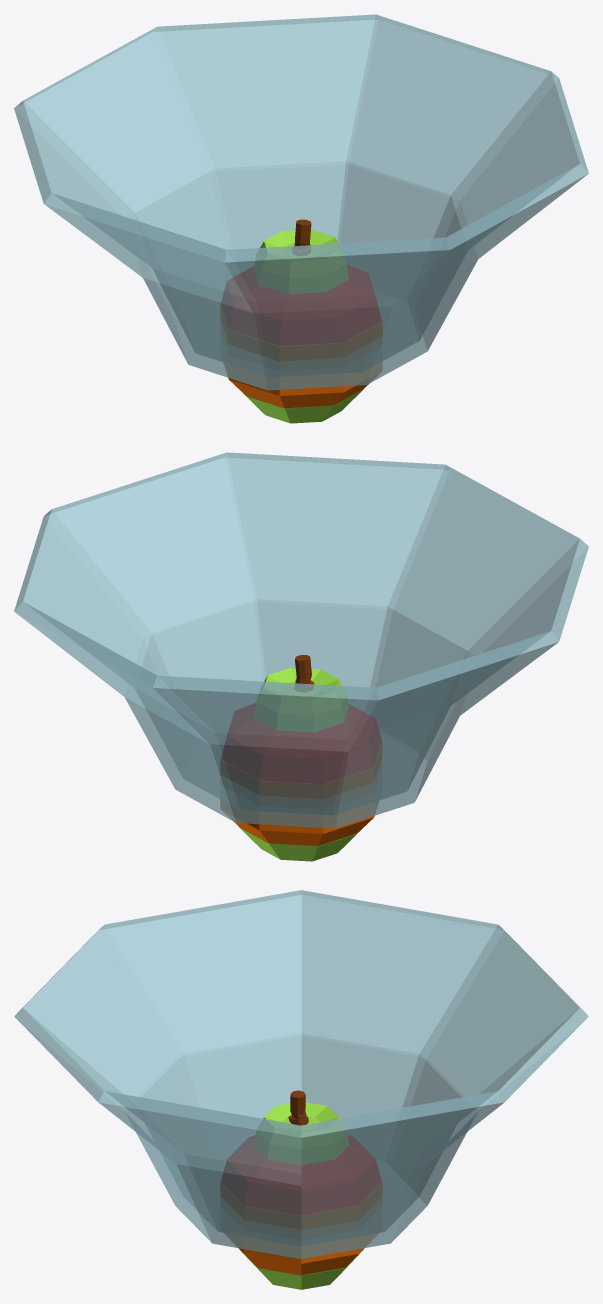
Rendered from bowl-of-fruit--householdpropschallenge-91555e.glb.
3 renders of one model, top to bottom at view 1: azimuth 30°, elevation 25°; view 2: azimuth 150°, elevation 25°; view 3: azimuth 270°, elevation 25°, orthographic. The views are drawn at different scales.
Parts seen in each view (by area): view 1: PropMesh; view 2: PropMesh; view 3: PropMesh.
Boxes of the visible parts, bbox=[...] form: PropMesh: bbox=[14, 14, 588, 423]; PropMesh: bbox=[14, 452, 588, 861]; PropMesh: bbox=[14, 890, 588, 1289].
Size of the model in its own units: 4.32 by 2.2 by 4.32.
